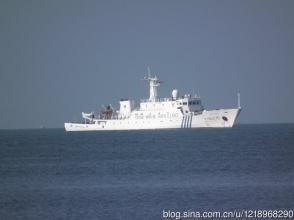warship: (59, 75, 245, 137)
